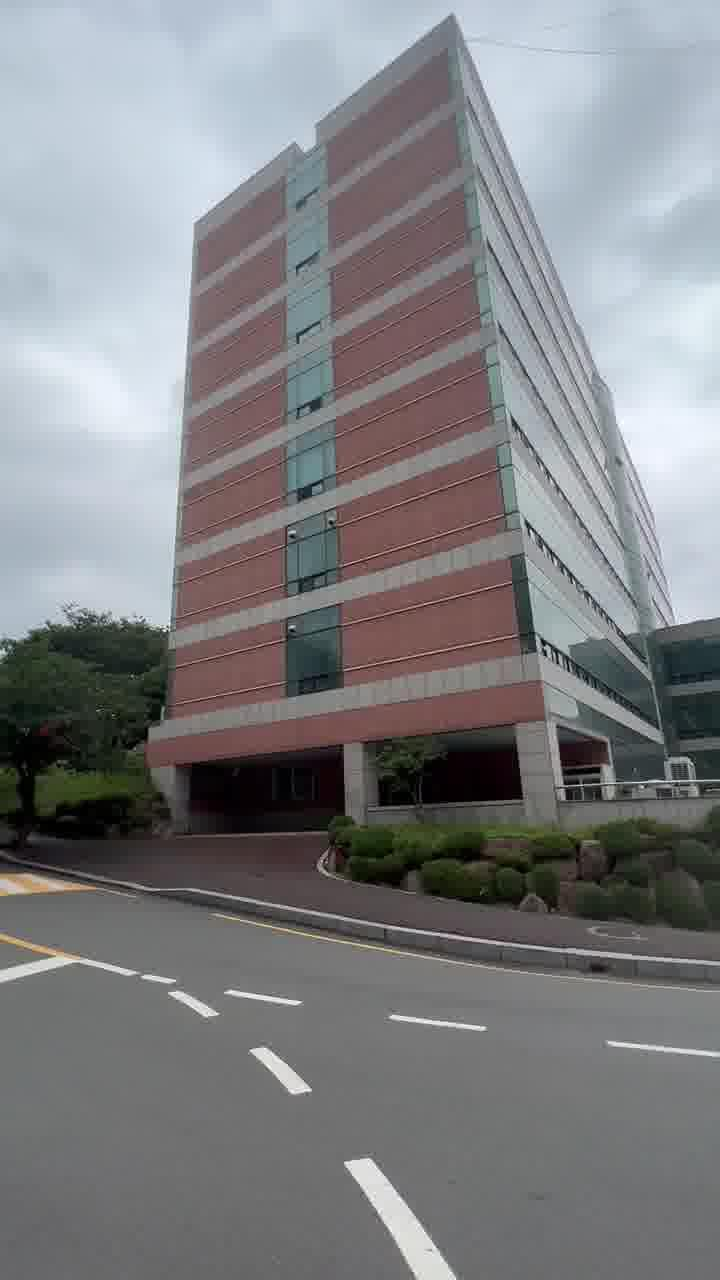building: (156, 108, 634, 770)
